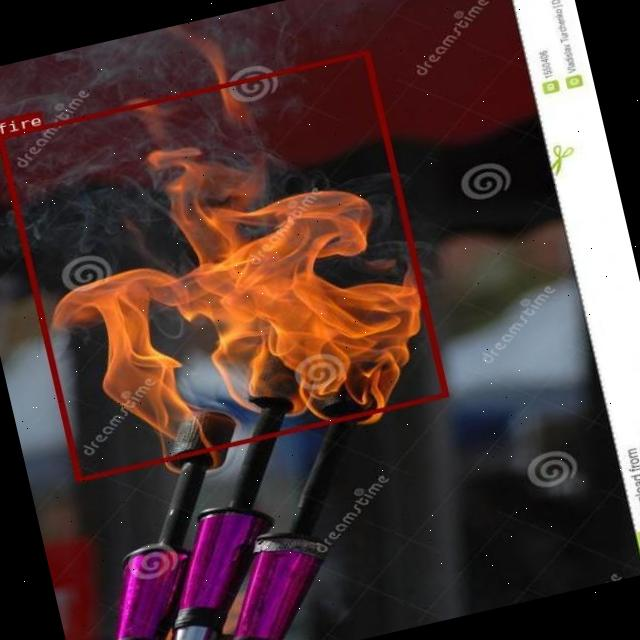fire: (0, 50, 446, 481)
